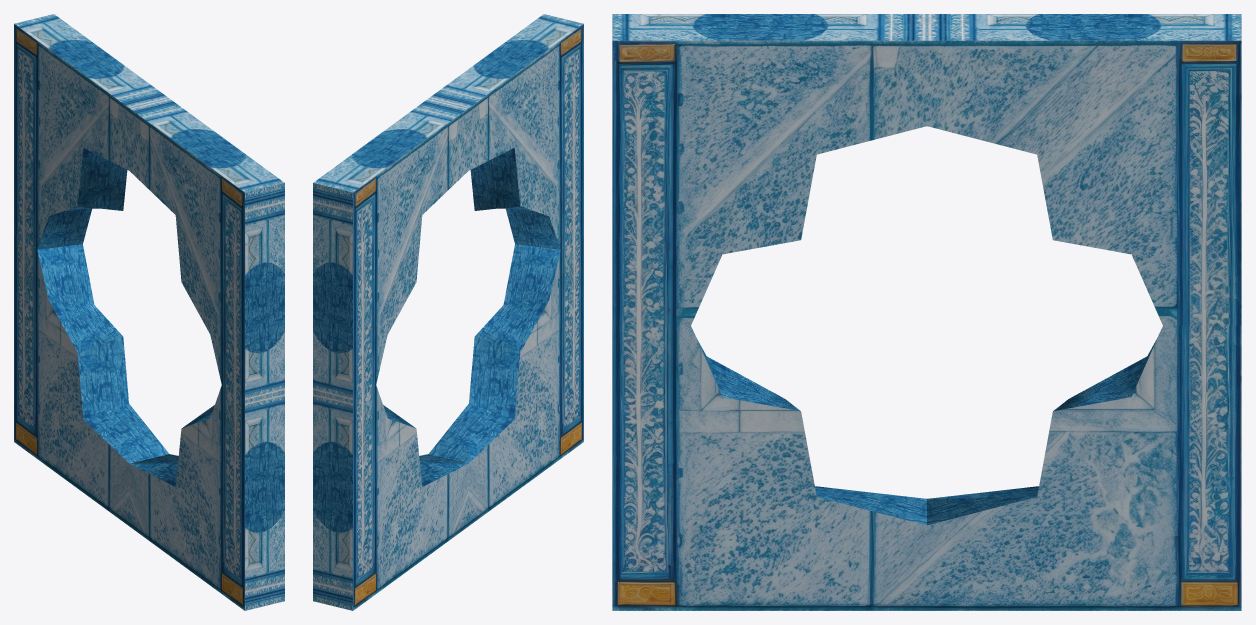
Rendered from blk_city_cracked.glb.
3 views of the same model, side by side, from view 1: azimuth 30°, elevation 25°; view 2: azimuth 150°, elevation 25°; view 3: azimuth 270°, elevation 25° (orthographic). The views are drawn at different scales.
Visible parts, largest first — view 1: object1.004; view 2: object1.004; view 3: object1.004.
Boxes of the visible parts, box(x1,y1,x2,y2) form: object1.004: box(14, 14, 284, 610); object1.004: box(313, 14, 583, 610); object1.004: box(612, 14, 1241, 610).
Bounding box in the file's own units: 0.3 × 3 × 3.
1 material, 1 textured.
